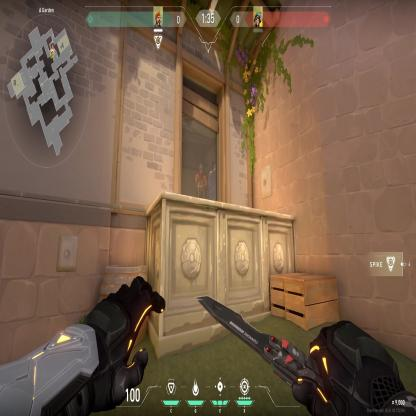enemy: (194, 161, 207, 199)
